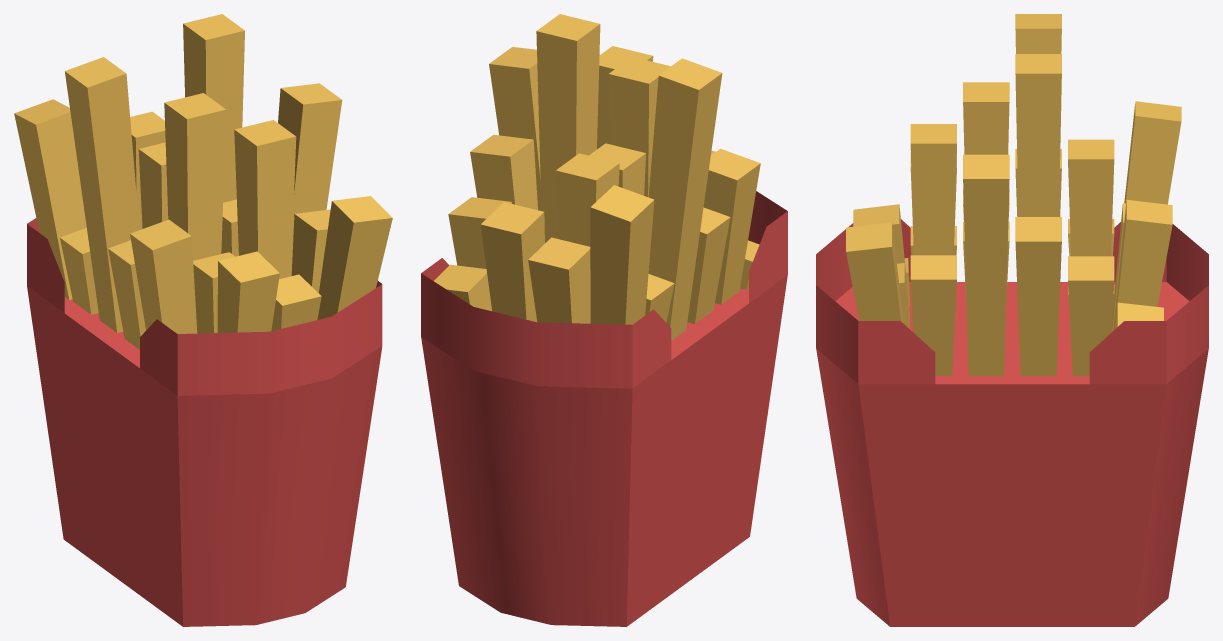
The model's file is fries.dae.
The picture shows the model from 3 angles, left to right: view 1: azimuth 30°, elevation 25°; view 2: azimuth 150°, elevation 25°; view 3: azimuth 270°, elevation 25°; orthographic projection. The views are drawn at different scales.
Visible parts, largest first — view 1: fries (×2); view 2: fries (×2); view 3: fries (×2).
Part boxes in pixels (x1,y1,x2,y2): fries (×2): [14, 14, 392, 626]; fries (×2): [421, 14, 787, 626]; fries (×2): [816, 14, 1208, 626].
Size of the model in its own units: 0.183 by 0.3977 by 0.2653.
